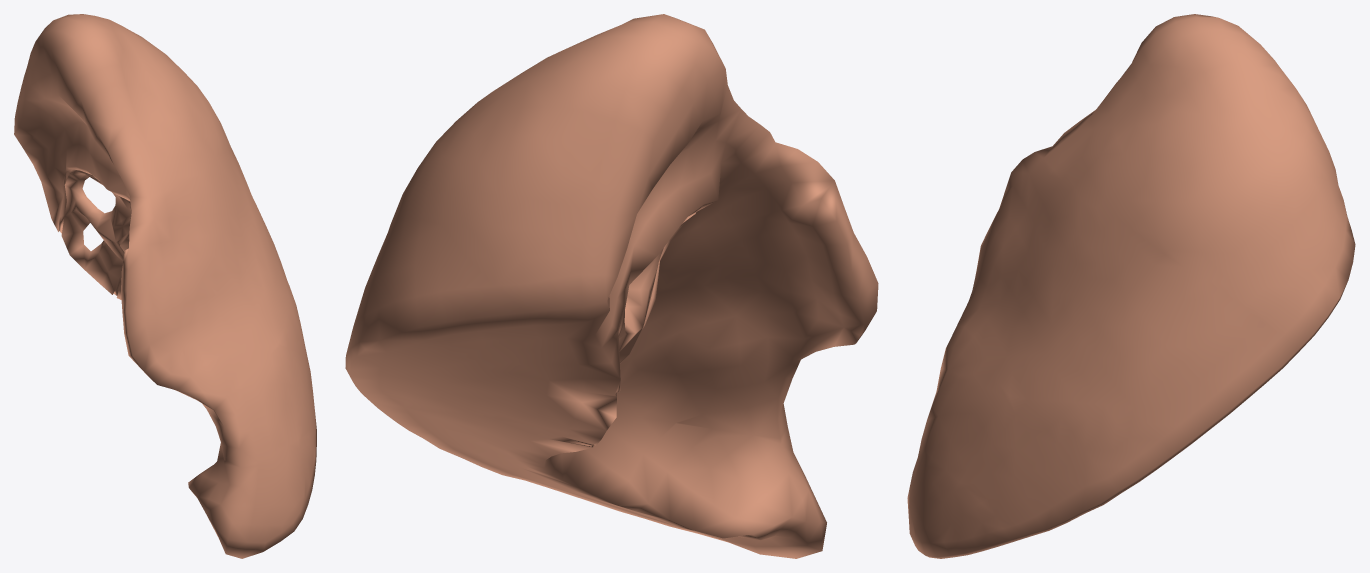
Rendered from superior-lobe-of-left-lung.glb.
The picture shows the model from 3 angles, left to right: view 1: azimuth 30°, elevation 25°; view 2: azimuth 150°, elevation 25°; view 3: azimuth 270°, elevation 25°; orthographic projection. The views are drawn at different scales.
Visible parts, largest first — view 1: Superior lobe of left lung; view 2: Superior lobe of left lung; view 3: Superior lobe of left lung.
Part boxes in pixels (left/top/right/bottom): Superior lobe of left lung: left=14, top=14, right=316, bottom=558; Superior lobe of left lung: left=345, top=14, right=878, bottom=558; Superior lobe of left lung: left=907, top=14, right=1355, bottom=558.
Size of the model in its own units: 0.1166 by 0.2133 by 0.1735.
